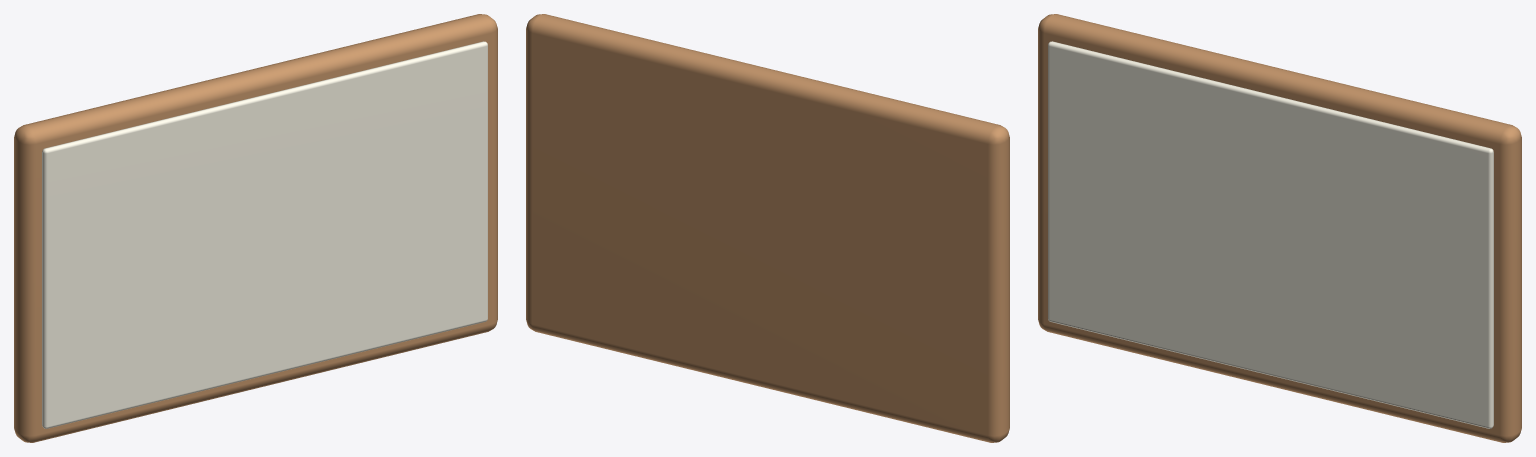
File: officeBoardEmpty.glb
3 views of the same model, side by side, from view 1: azimuth 30°, elevation 25°; view 2: azimuth 150°, elevation 25°; view 3: azimuth 330°, elevation 25° (orthographic).
Visible parts, largest first — view 1: Board surface, Board frame; view 2: Board frame; view 3: Board surface, Board frame.
Boxes of the visible parts, bbox=[...] form: Board surface: bbox=[42, 41, 487, 428]; Board frame: bbox=[14, 14, 497, 442]; Board frame: bbox=[526, 14, 1009, 442]; Board surface: bbox=[1048, 41, 1493, 428]; Board frame: bbox=[1038, 14, 1521, 442].
Bounding box in the file's own units: 1.75 × 1.1 × 0.1205.
